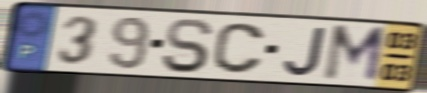3: (55, 14, 101, 67)
9: (105, 14, 152, 71)
C: (210, 21, 267, 76)
J: (282, 25, 329, 78)
M: (320, 23, 389, 86)
S: (159, 16, 216, 75)
